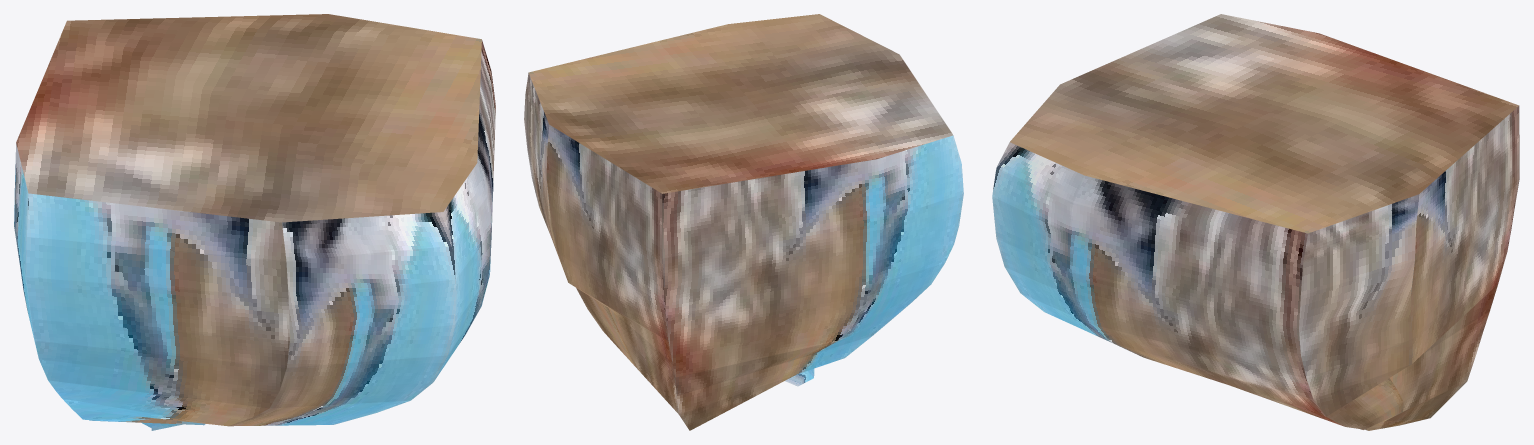
The picture shows the model from 3 angles, left to right: view 1: azimuth 30°, elevation 25°; view 2: azimuth 150°, elevation 25°; view 3: azimuth 270°, elevation 25°; orthographic projection. The views are drawn at different scales.
Visible parts, largest first — view 1: SPLICE_3.001; view 2: SPLICE_3.001; view 3: SPLICE_3.001.
Boxes of the visible parts, x1,y1,x2,y2 form: SPLICE_3.001: (14,14,495,430); SPLICE_3.001: (524,14,963,430); SPLICE_3.001: (992,14,1519,430).
Size of the model in its own units: 1.91 by 1.25 by 1.91.
1 material, 1 textured.
